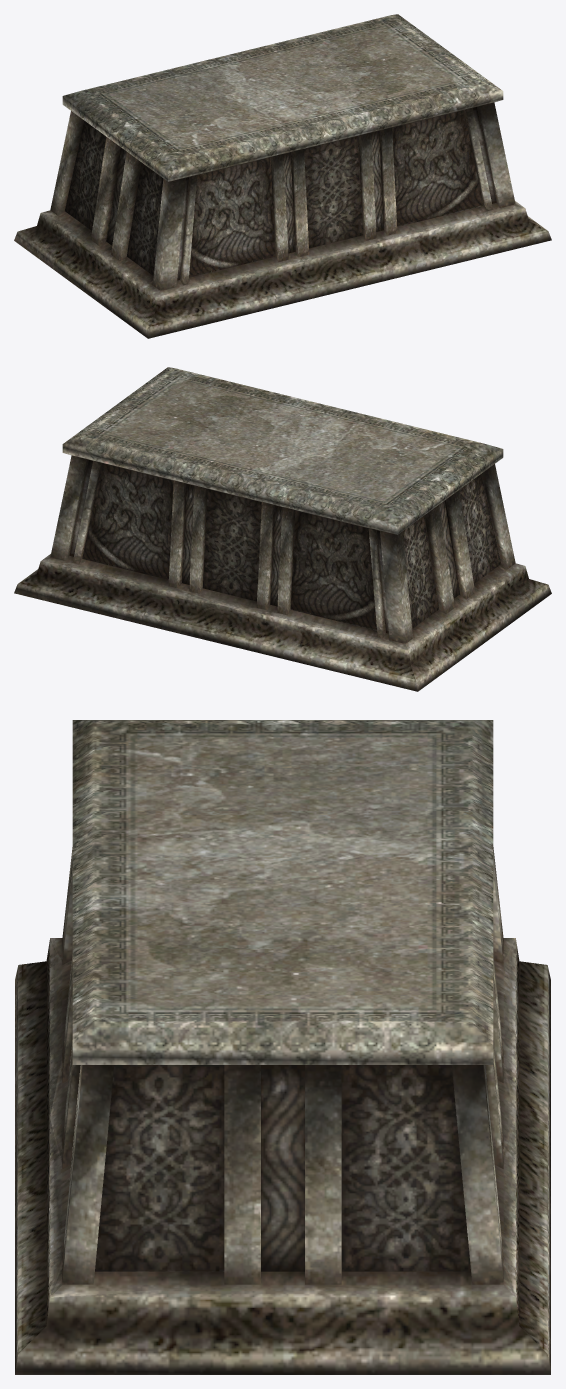
File: shrine_altar.dae
3 renders of one model, top to bottom at view 1: azimuth 30°, elevation 25°; view 2: azimuth 150°, elevation 25°; view 3: azimuth 270°, elevation 25°, orthographic. The views are drawn at different scales.
Parts seen in each view (by area): view 1: polySurface1; view 2: polySurface1; view 3: polySurface1.
Boxes of the visible parts, x1,y1,x2,y2 form: polySurface1: (14, 14, 551, 338); polySurface1: (14, 367, 551, 691); polySurface1: (15, 720, 550, 1374).
Bounding box in the file's own units: 2.06 × 0.7459 × 1.19.
